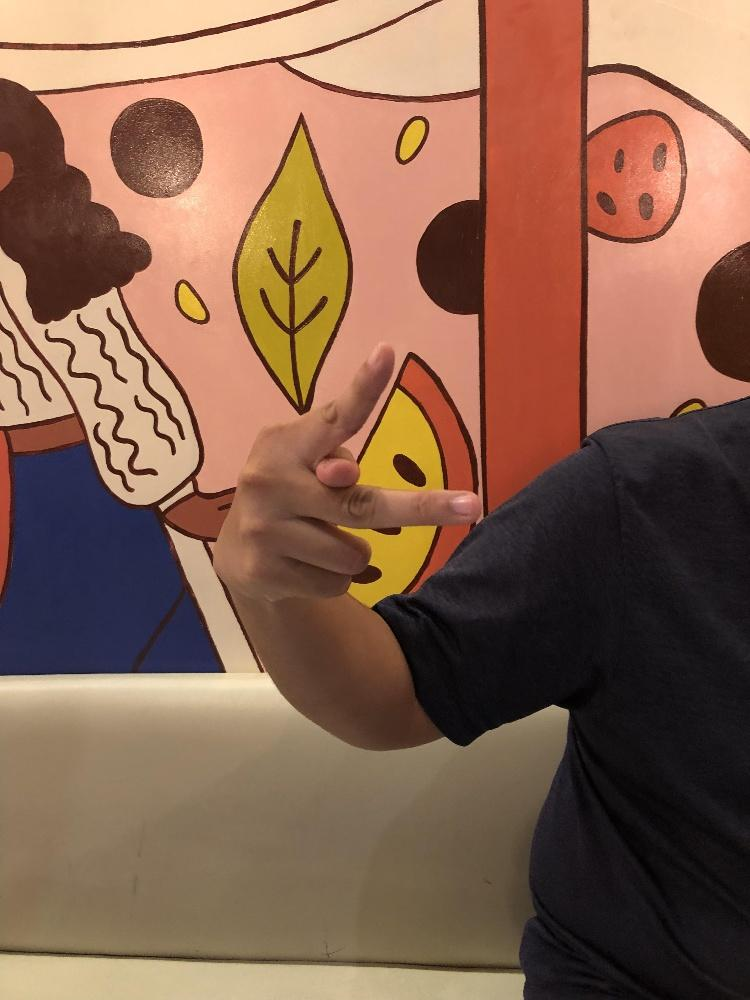k: (208, 340, 482, 601)
